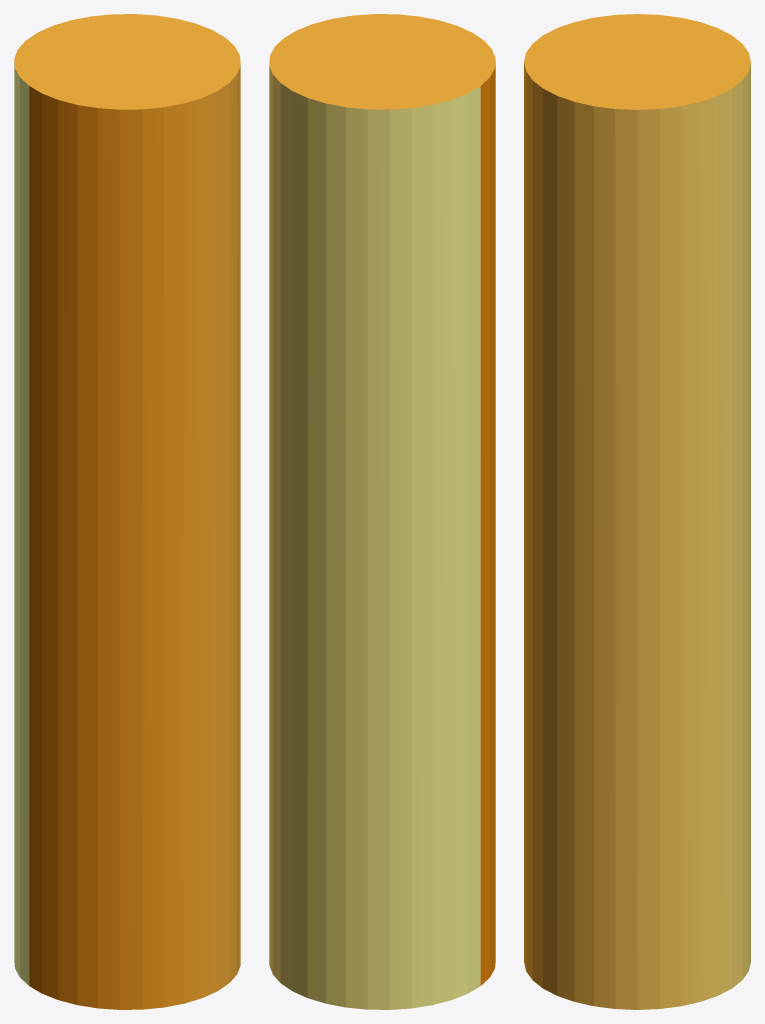
The model's file is Column.fbx.
The picture shows the model from 3 angles, left to right: view 1: azimuth 30°, elevation 25°; view 2: azimuth 150°, elevation 25°; view 3: azimuth 270°, elevation 25°; orthographic projection.
Parts seen in each view (by area): view 1: Cylinder.004; view 2: Cylinder.004; view 3: Cylinder.004.
Boxes of the visible parts, x1,y1,x2,y2 form: Cylinder.004: (14,14,240,1009); Cylinder.004: (269,14,495,1009); Cylinder.004: (524,14,750,1009).
Size of the model in its own units: 80 by 350 by 80.
